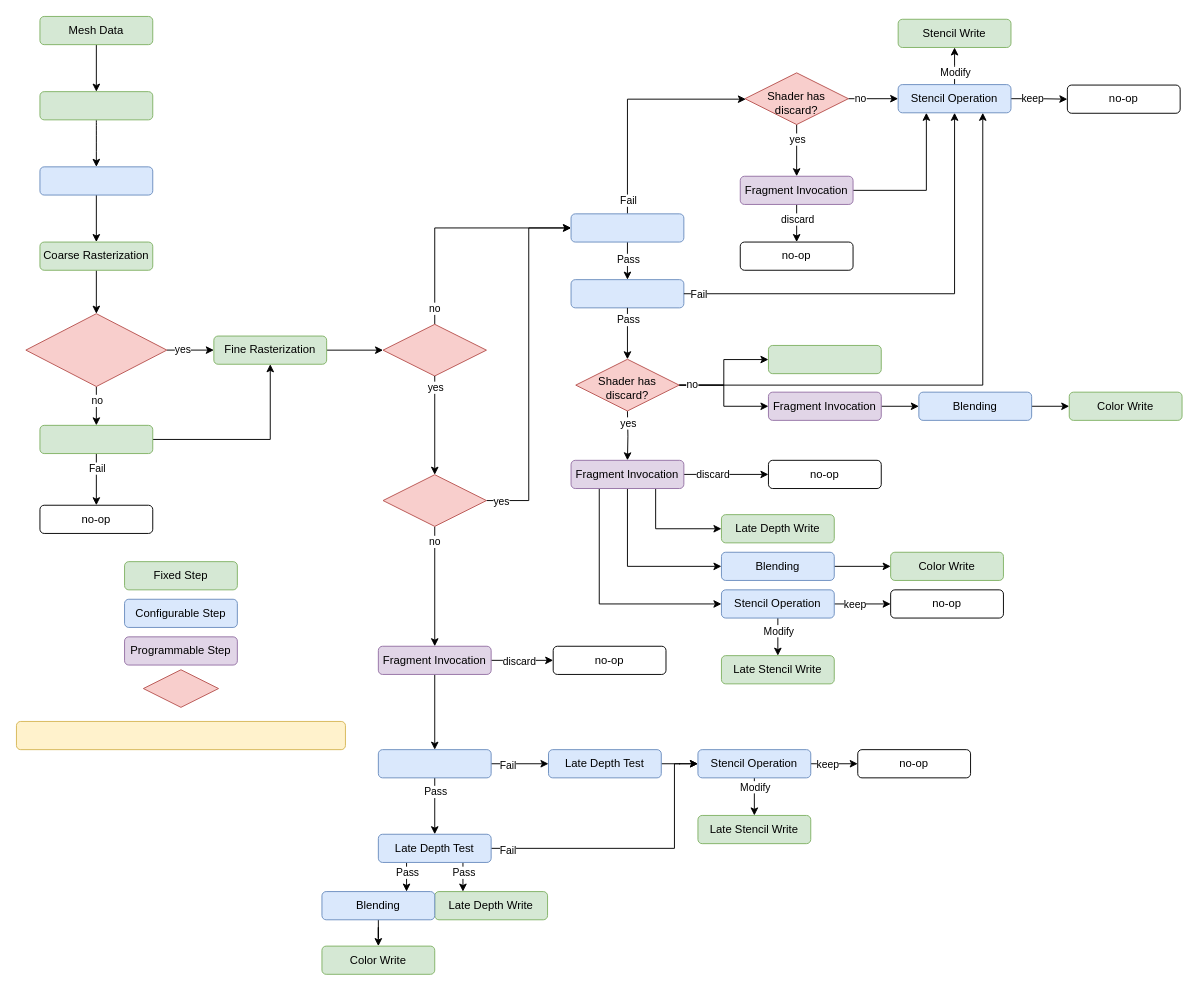
The diagram is 1199 pixels wide and 991 high, and some of its shapes have lost their labels. Here are the shapes that lost their labels. From the top down, the box of each, then its label:
(39, 91, 153, 120): Primitive Assembler
(39, 166, 153, 195): Face Culling
(570, 213, 684, 242): Early Stencil Test
(570, 279, 684, 308): Early Depth Test
(25, 313, 167, 387): Shader modifies depth or has discard?
(382, 323, 486, 376): Shader modifies depth?
(768, 345, 881, 374): Early Depth Write
(39, 424, 153, 454): Hi-Z Test
(382, 474, 486, 526): Conservative depth?
(142, 669, 219, 707): Condition
(16, 721, 345, 750): ⚠️The order of the steps can change depending on the GPU ⚠️
(377, 749, 491, 778): Late Stencil Test
